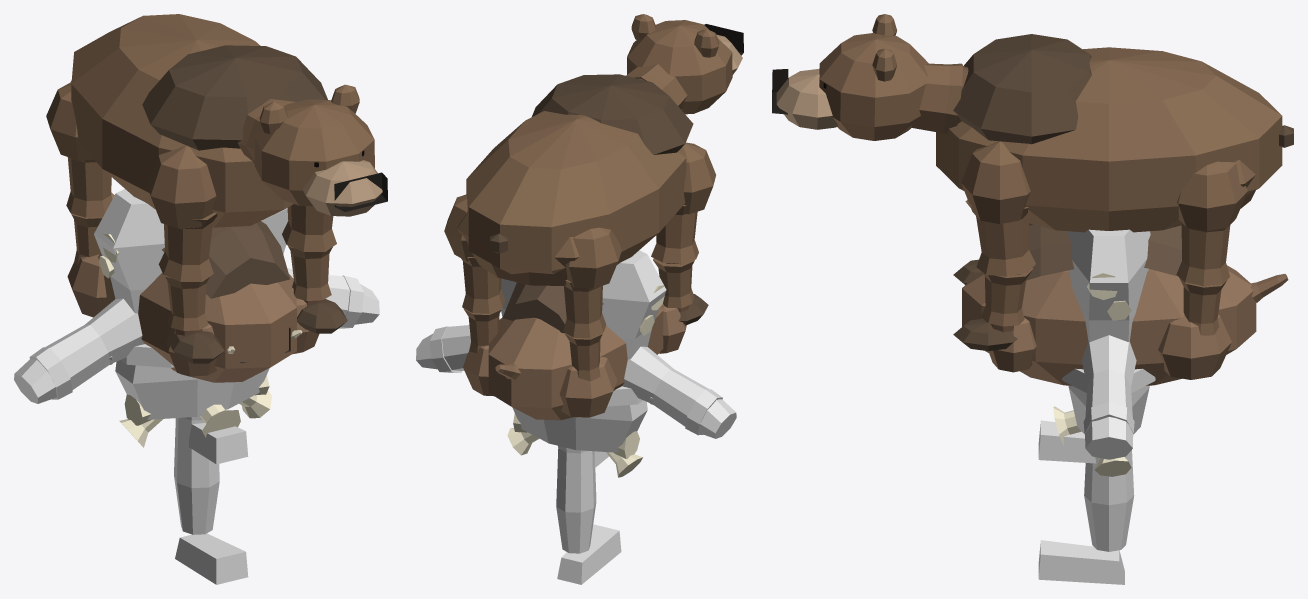
Rendered from bear.glb.
The picture shows the model from 3 angles, left to right: view 1: azimuth 30°, elevation 25°; view 2: azimuth 150°, elevation 25°; view 3: azimuth 270°, elevation 25°; orthographic projection. The views are drawn at different scales.
Visible parts, largest first — view 1: Bear_BigBarrelBody, Bear_ShoulderHump, CutMode_RoundishTorso, Boar_BarrelTorso, Bear_BlockyHead, CutMode_L_LegFoot_Unified, CutMode_L_ArmHand_Unified, Boar_SolidManeBlade, Bear_L_FrontShoulderMass, Bear_Muzzle, Bear_LF_UpperLeg, Bear_LR_UpperLeg (+23 smaller); view 2: Bear_BigBarrelBody, CutMode_RoundishTorso, Boar_BarrelTorso, Bear_ShoulderHump, Bear_BlockyHead, CutMode_L_LegFoot_Unified, CutMode_L_ArmHand_Unified, Bear_L_RearHipMass, CutMode_R_LegFoot_Unified, Boar_L_RearHaunchMass, Boar_SolidManeBlade, Bear_LR_UpperLeg (+22 smaller); view 3: Bear_BigBarrelBody, Boar_BarrelTorso, Bear_ShoulderHump, Bear_BlockyHead, CutMode_RoundishTorso, CutMode_L_LegFoot_Unified, CutMode_R_ArmHand_Unified, Bear_R_FrontShoulderMass, Bear_R_RearHipMass, Boar_SolidManeBlade, Boar_R_RearHaunchMass, Bear_RF_UpperLeg (+10 smaller).
Part boxes in pixels (x1,y1,x2,y2): Bear_BigBarrelBody: (71,14,293,227); Bear_ShoulderHump: (142,45,327,150); CutMode_RoundishTorso: (94,189,288,419); Boar_BarrelTorso: (98,253,296,382); Bear_BlockyHead: (254,99,374,206); CutMode_L_LegFoot_Unified: (175,416,248,584); CutMode_L_ArmHand_Unified: (14,298,144,403); Boar_SolidManeBlade: (162,221,289,298); Bear_L_FrontShoulderMass: (147,146,216,228); Bear_Muzzle: (302,160,382,216); Bear_LF_UpperLeg: (158,212,217,281); Bear_LR_UpperLeg: (66,157,112,217); Bear_BigBarrelBody: (466,111,686,274); CutMode_RoundishTorso: (501,250,666,452); Boar_BarrelTorso: (488,304,663,420); Bear_ShoulderHump: (532,74,693,154); Bear_BlockyHead: (627,20,732,114); CutMode_L_LegFoot_Unified: (557,446,621,584); CutMode_L_ArmHand_Unified: (622,346,736,438); Bear_L_RearHipMass: (565,227,621,288); CutMode_R_LegFoot_Unified: (556,451,595,583); Boar_L_RearHaunchMass: (559,357,617,417); Boar_SolidManeBlade: (502,282,603,333); Bear_LR_UpperLeg: (563,280,606,338); Bear_BigBarrelBody: (936,47,1282,232); Boar_BarrelTorso: (962,265,1256,385); Bear_ShoulderHump: (953,34,1091,144); Bear_BlockyHead: (819,33,928,140); CutMode_RoundishTorso: (1068,229,1150,434); CutMode_L_LegFoot_Unified: (1038,450,1134,584); CutMode_R_ArmHand_Unified: (1081,335,1136,459); Bear_R_FrontShoulderMass: (961,141,1030,224); Bear_R_RearHipMass: (1177,161,1247,230); Boar_SolidManeBlade: (1026,223,1181,280); Boar_R_RearHaunchMass: (1158,314,1231,379); Bear_RF_UpperLeg: (965,200,1035,276).
Size of the model in its own units: 1.77 by 2.65 by 2.29.
